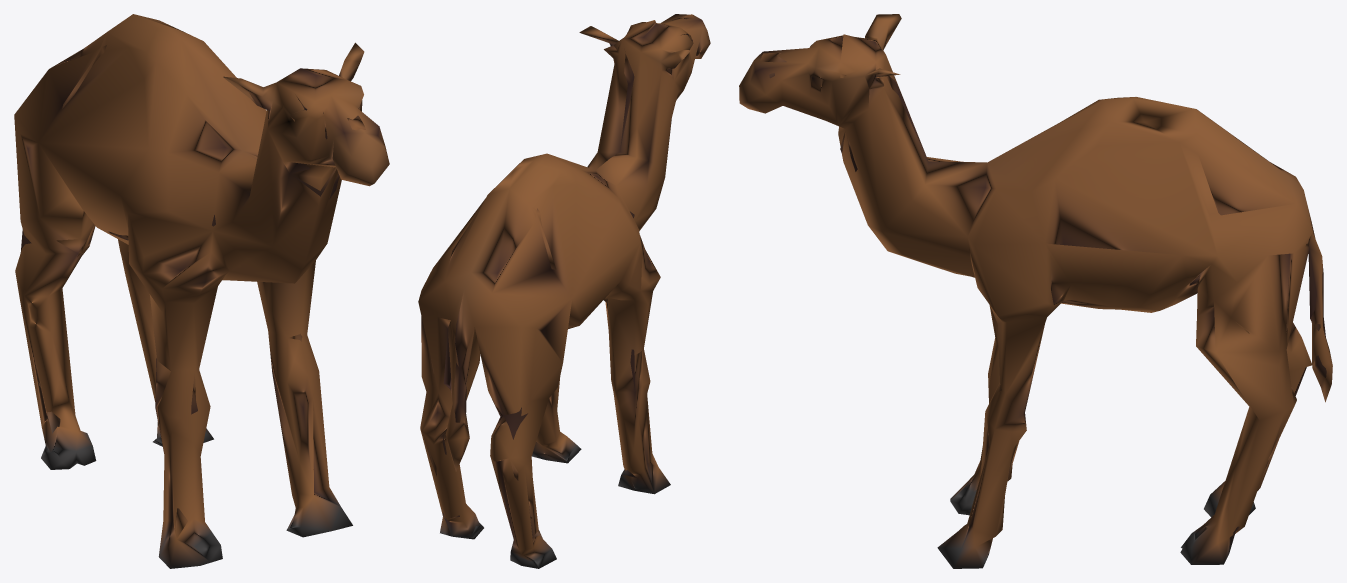
File: gen3d-camel-lod1.glb
The picture shows the model from 3 angles, left to right: view 1: azimuth 30°, elevation 25°; view 2: azimuth 150°, elevation 25°; view 3: azimuth 270°, elevation 25°; orthographic projection. The views are drawn at different scales.
Parts seen in each view (by area): view 1: part_0; view 2: part_0; view 3: part_0.
Part boxes in pixels (box(x1,y1,x2,y2)): part_0: box(14, 14, 389, 568); part_0: box(418, 14, 710, 568); part_0: box(739, 14, 1332, 568).
Bounding box in the file's own units: 0.3612 × 1 × 1.08.
